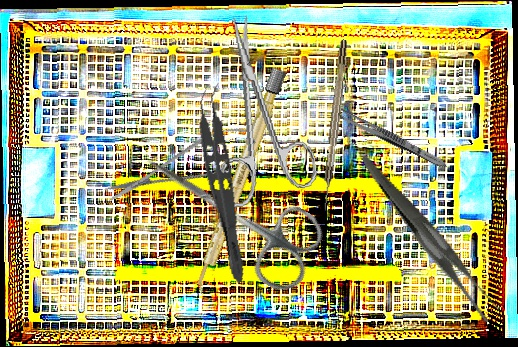Dressing Forceps: (361, 131, 503, 343), (328, 103, 450, 172)
Hook Surgical: (319, 39, 350, 212)
Iris Scissors: (124, 127, 334, 300), (194, 7, 321, 210)
Micro Scissor: (98, 113, 274, 217)
Scalpel Handle: (191, 67, 287, 296)
Tissue Forceps: (188, 82, 262, 285)
